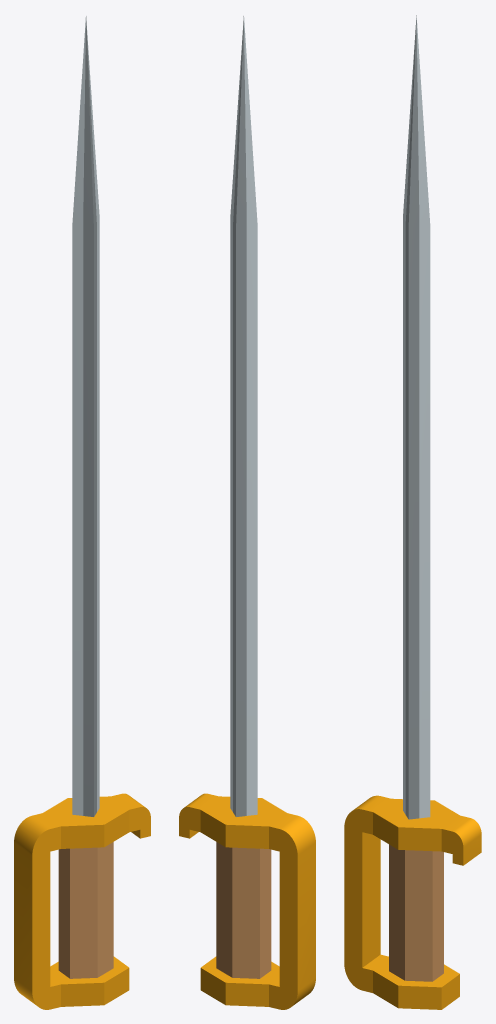
The model's file is Sword2.fbx.
The picture shows the model from 3 angles, left to right: view 1: azimuth 30°, elevation 25°; view 2: azimuth 150°, elevation 25°; view 3: azimuth 330°, elevation 25°; orthographic projection.
Visible parts, largest first — view 1: hilt_handle_guard_23, blade_dual_22; view 2: hilt_handle_guard_23, blade_dual_22; view 3: hilt_handle_guard_23, blade_dual_22.
Part boxes in pixels (box(x1,y1,x2,y2)): hilt_handle_guard_23: box(14, 793, 150, 1009); blade_dual_22: box(72, 16, 99, 816); hilt_handle_guard_23: box(179, 793, 315, 1009); blade_dual_22: box(230, 16, 257, 816); hilt_handle_guard_23: box(344, 795, 481, 1009); blade_dual_22: box(403, 15, 430, 819).
Bounding box in the file's own units: 1.65 × 13 × 0.88.
